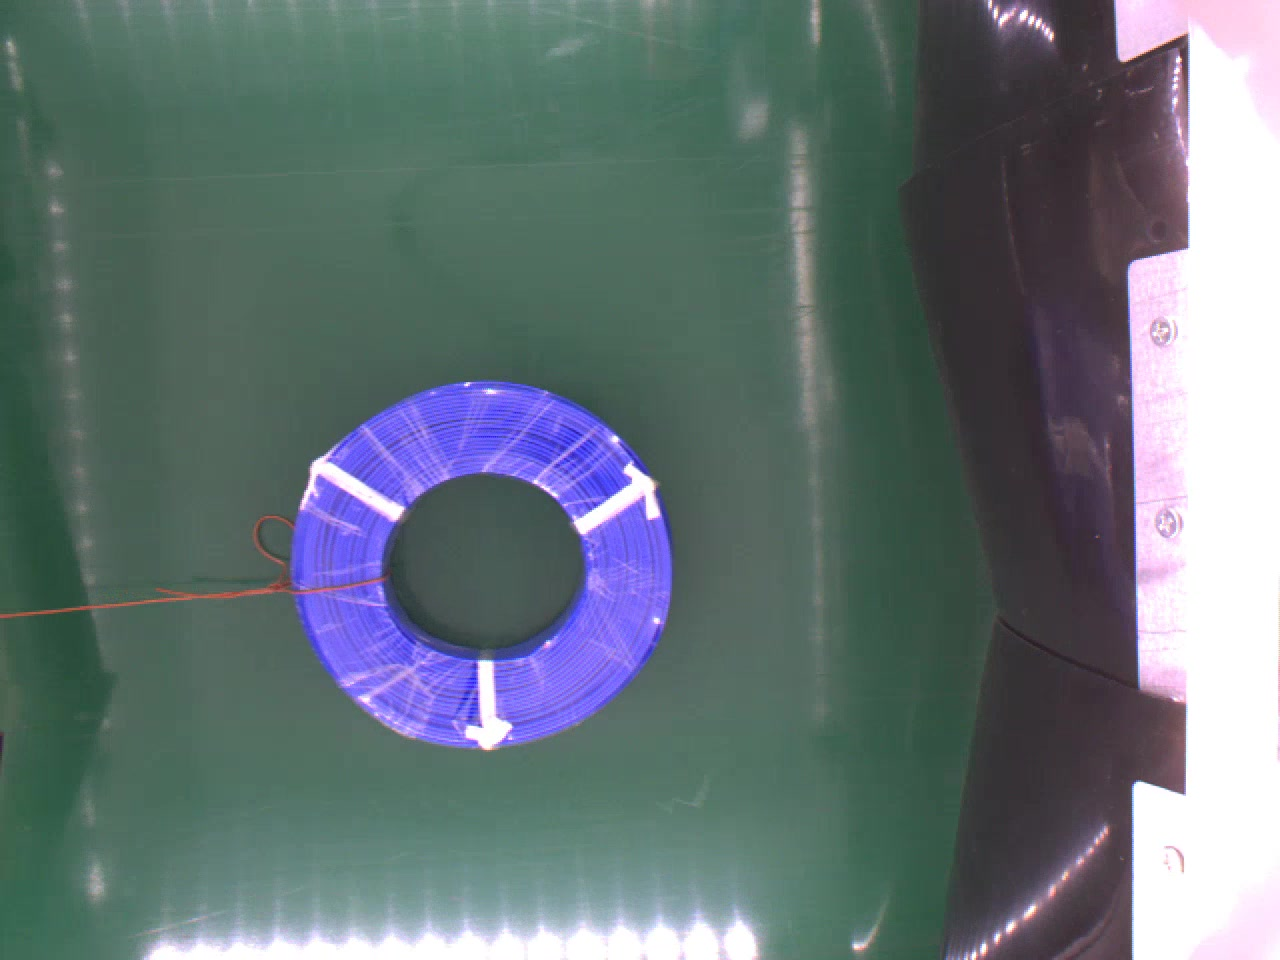blue: (288, 374, 677, 749)
